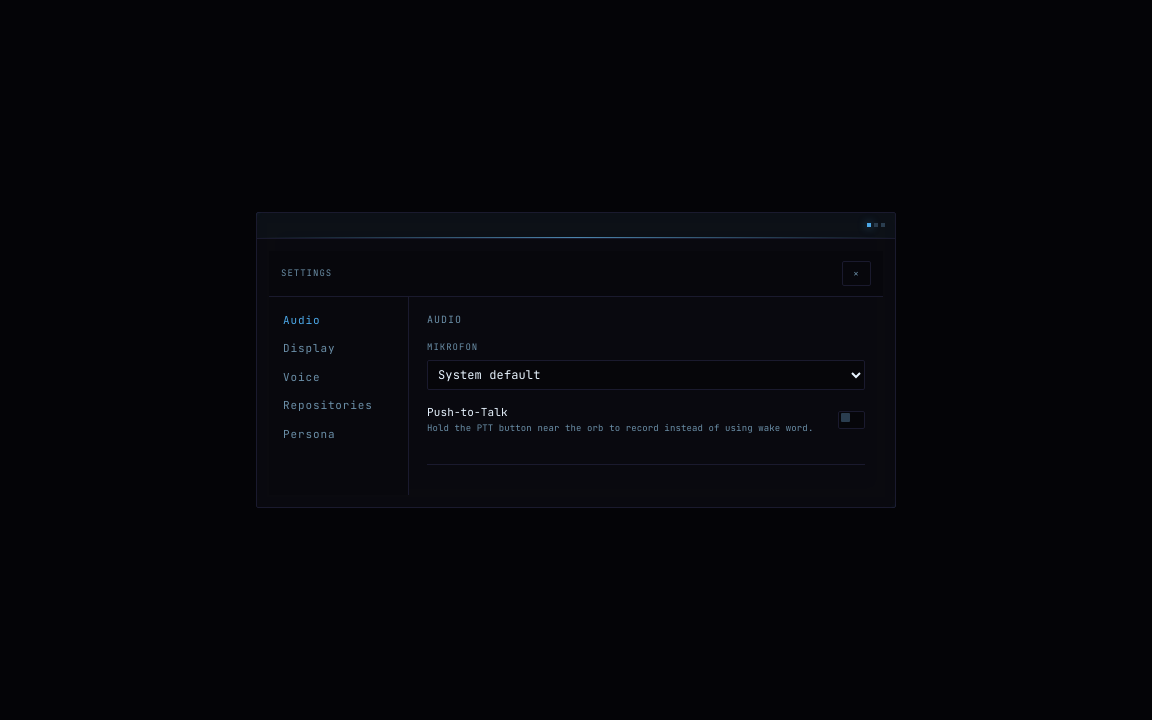
Test: SettingsView › navigates to Display section and shows opacity slider
Click the button "Display" at (338, 349), box [269, 334, 408, 363]
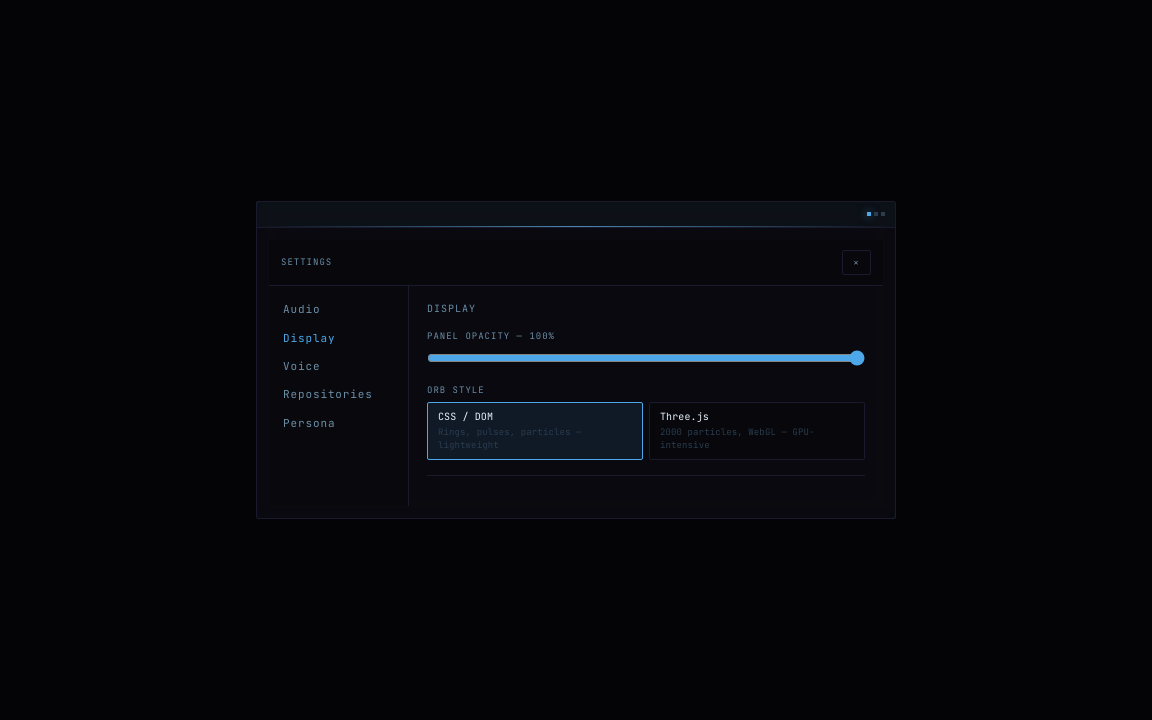
Expected: the slider labelled "Panel opacity — 100%" is shown, [427, 350, 865, 366]
